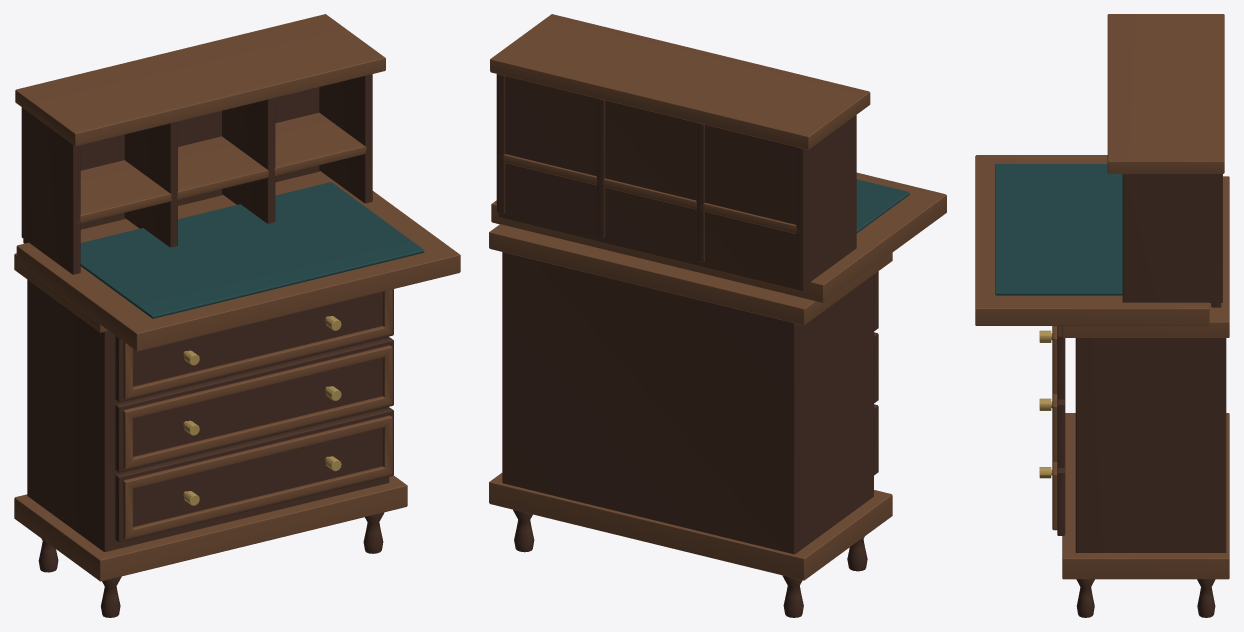
The model's file is rpg-mansion-secretary-01.glb.
The picture shows the model from 3 angles, left to right: view 1: azimuth 30°, elevation 25°; view 2: azimuth 150°, elevation 25°; view 3: azimuth 270°, elevation 25°; orthographic projection. The views are drawn at different scales.
Parts seen in each view (by area): view 1: rpg-mansion-secretary-01; view 2: rpg-mansion-secretary-01; view 3: rpg-mansion-secretary-01.
Part boxes in pixels (box(x1,y1,x2,y2)): rpg-mansion-secretary-01: box(14, 14, 460, 617); rpg-mansion-secretary-01: box(489, 14, 946, 617); rpg-mansion-secretary-01: box(975, 14, 1229, 617).
Size of the model in its own units: 1 by 1.41 by 0.7.
